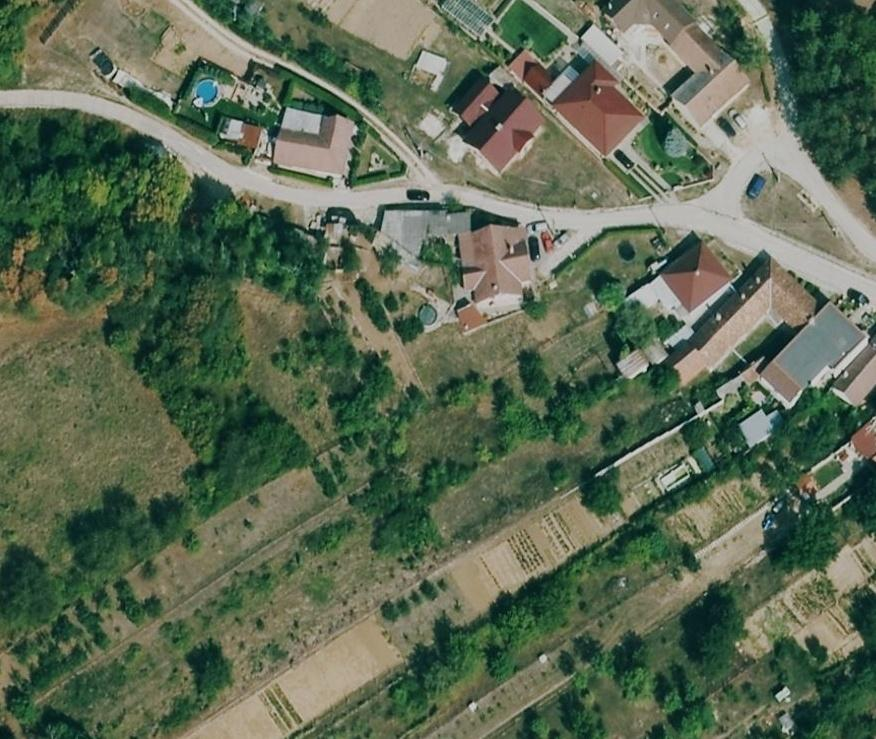field: (31, 500, 421, 737), (0, 325, 193, 557), (185, 618, 402, 738)
forest: (0, 111, 323, 515), (388, 518, 691, 725), (0, 486, 188, 637), (773, 0, 876, 213), (794, 589, 876, 737)
